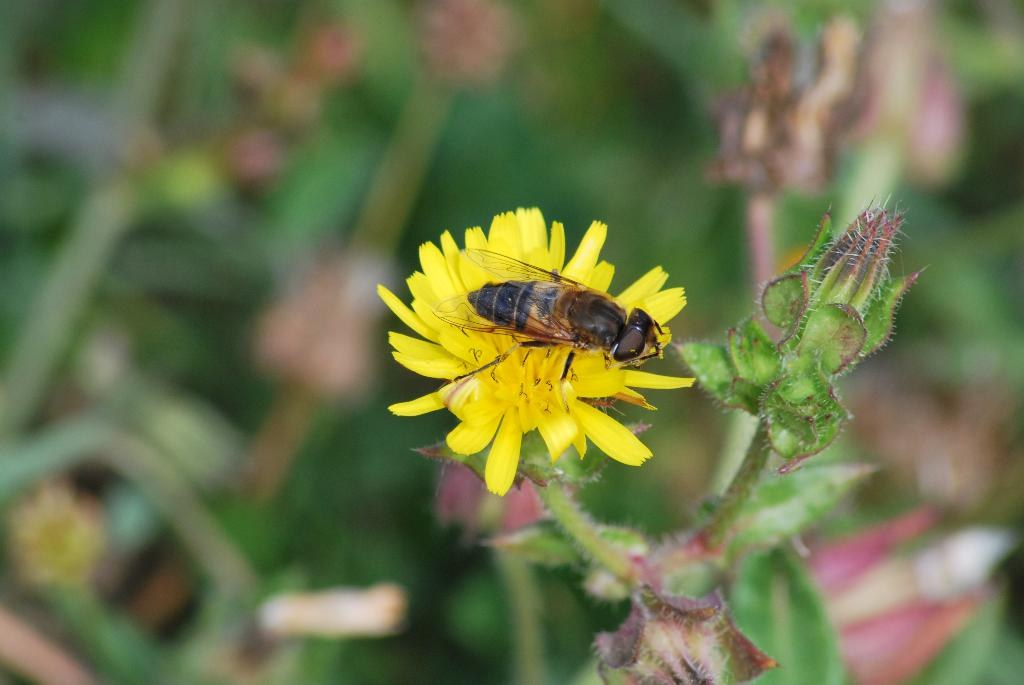bee: (433, 240, 662, 414)
